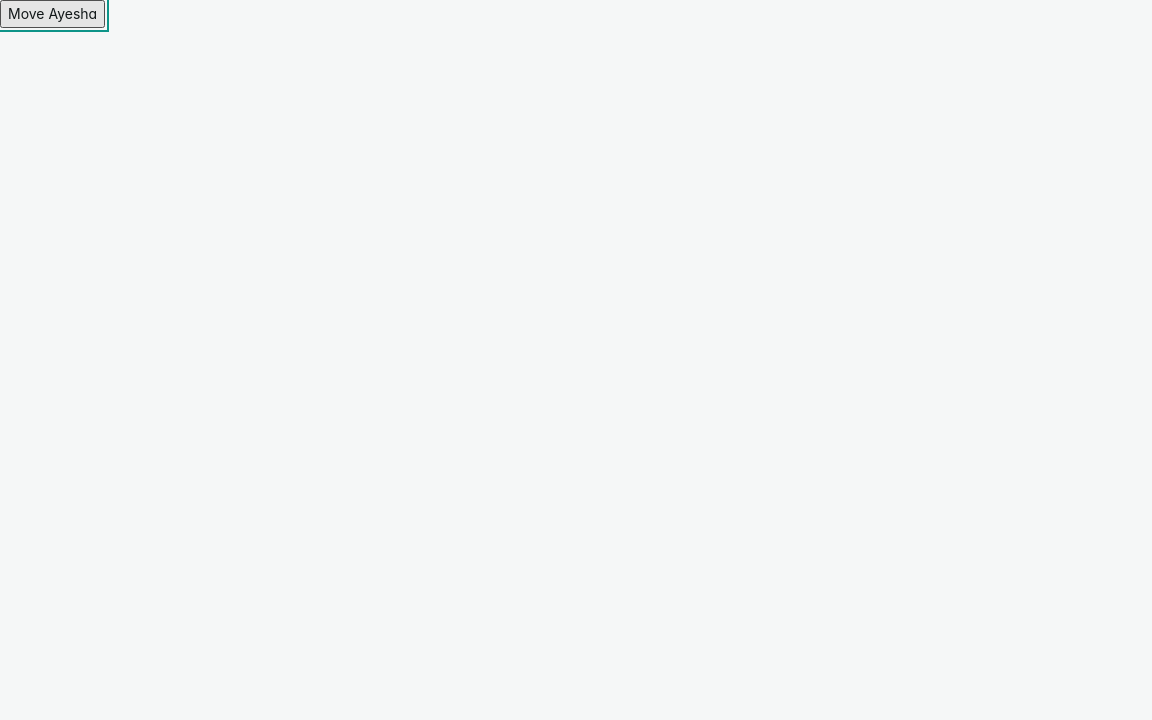
useStageChange › hands focus to the moved card in its new column
The width and height of the screenshot is (1152, 720).
Press Enter
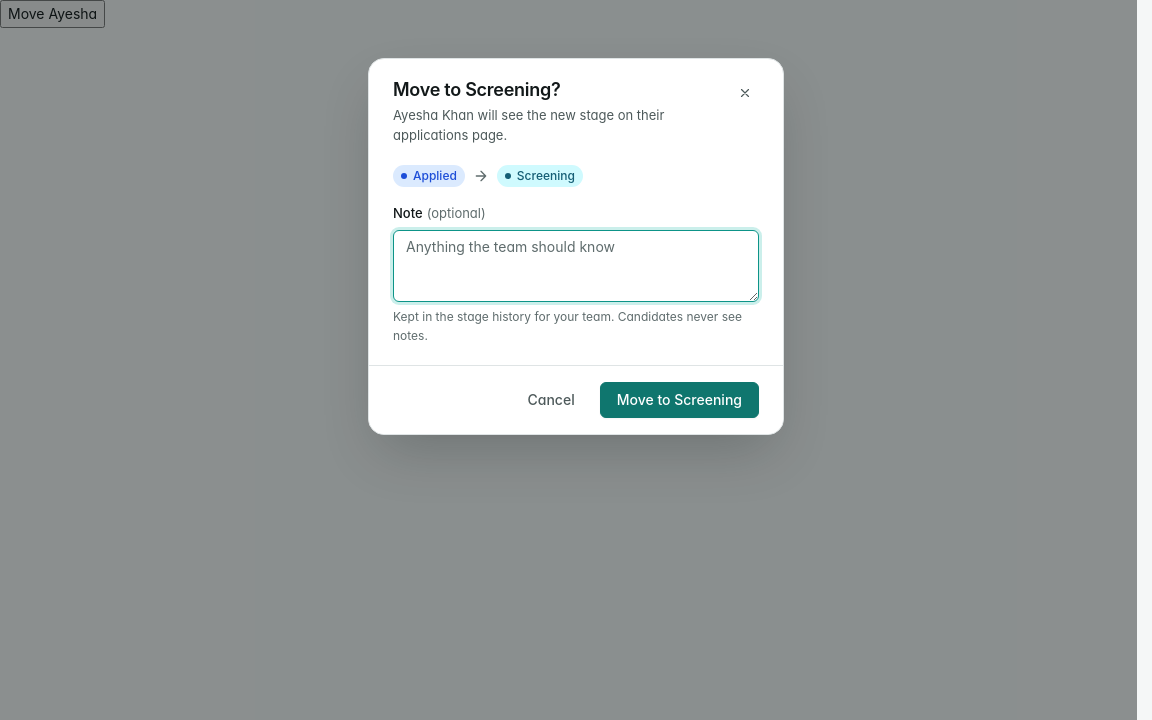
Click the button "Move to Screening" at (679, 400), box [600, 382, 759, 418]
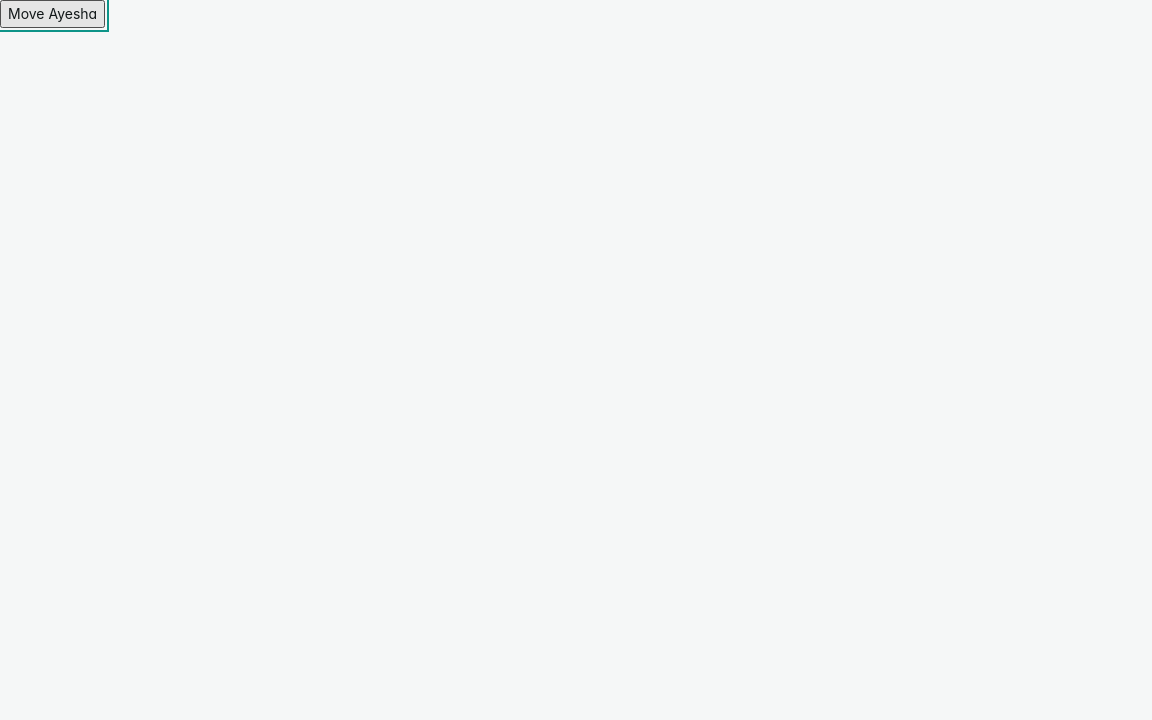
Now the dialog is gone
